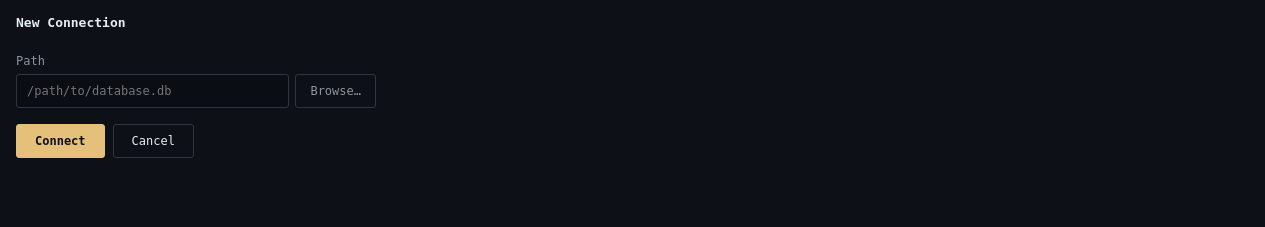
NewConnectionForm — sqlite › shows error when Connect clicked with empty path
Click the button "Connect" at (60, 140), box [16,124,105,158]
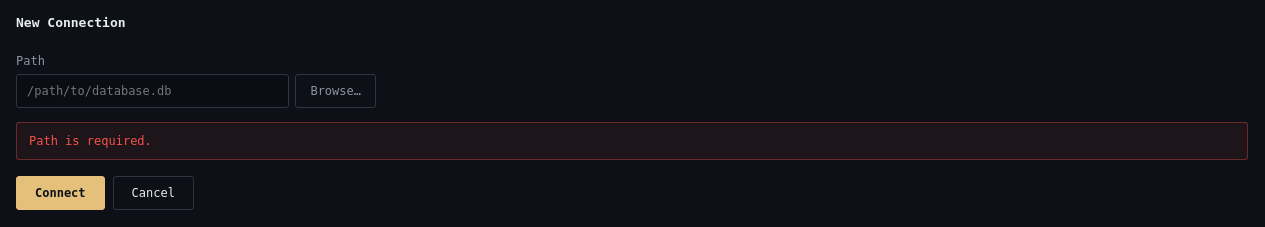
expect the text "Path is required." is shown: met, box [16,122,1248,160]
